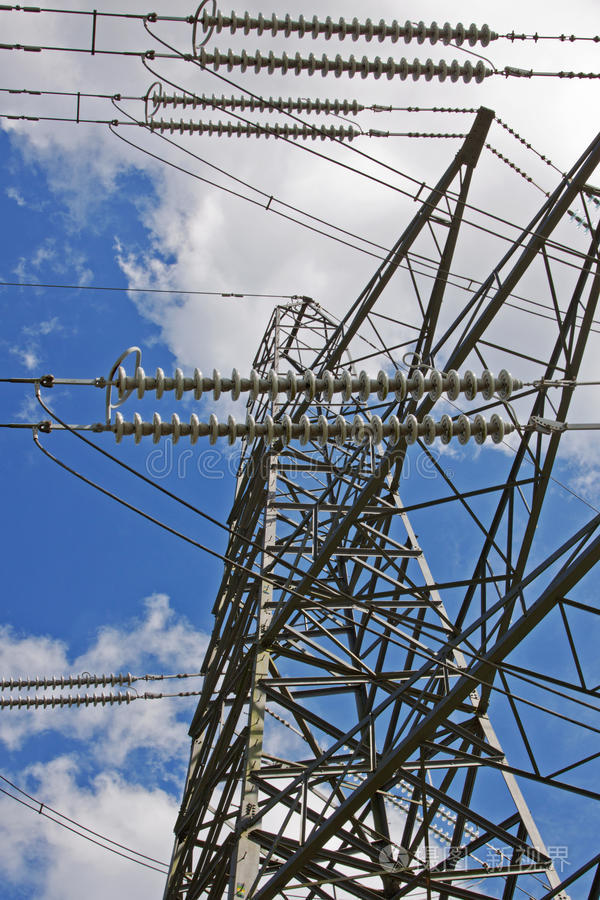insulator: (112, 361, 520, 444), (196, 7, 490, 82), (148, 89, 362, 142), (1, 670, 135, 714)
